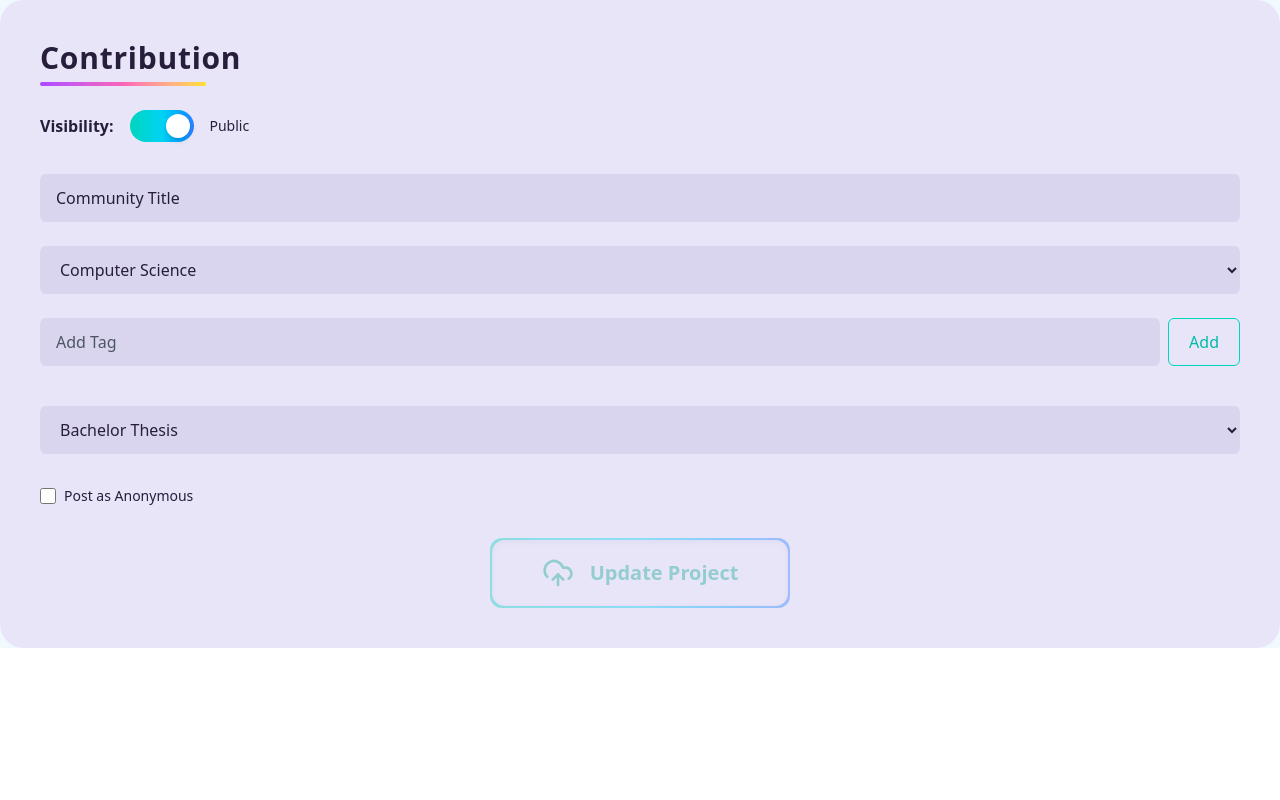
Test: ContributionCard › add and remove tags
// Warte auf das Tag-Input
Type "newTag" into the field with placeholder "Add Tag" at coordinates (600, 342), box [40,318,1160,366]
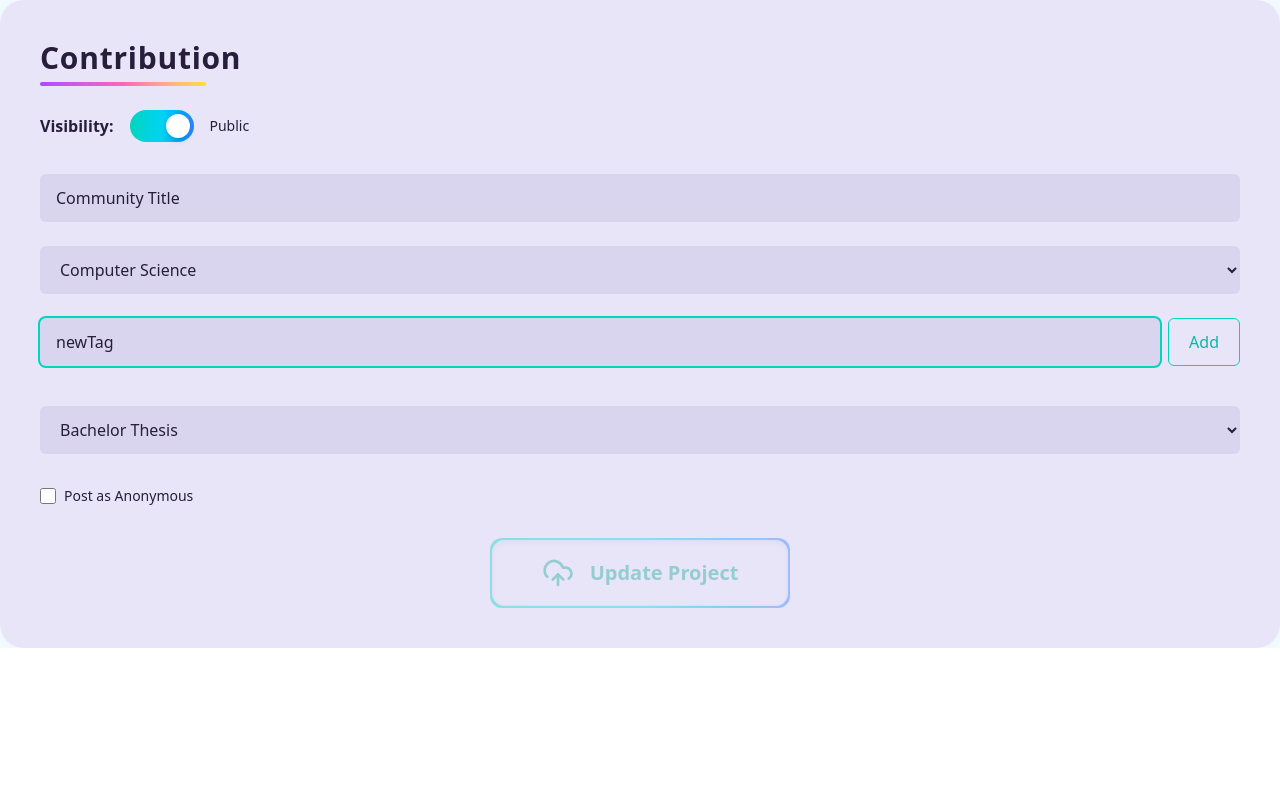
Click the button "Add" at coordinates (1204, 342), box [1168,318,1240,366]
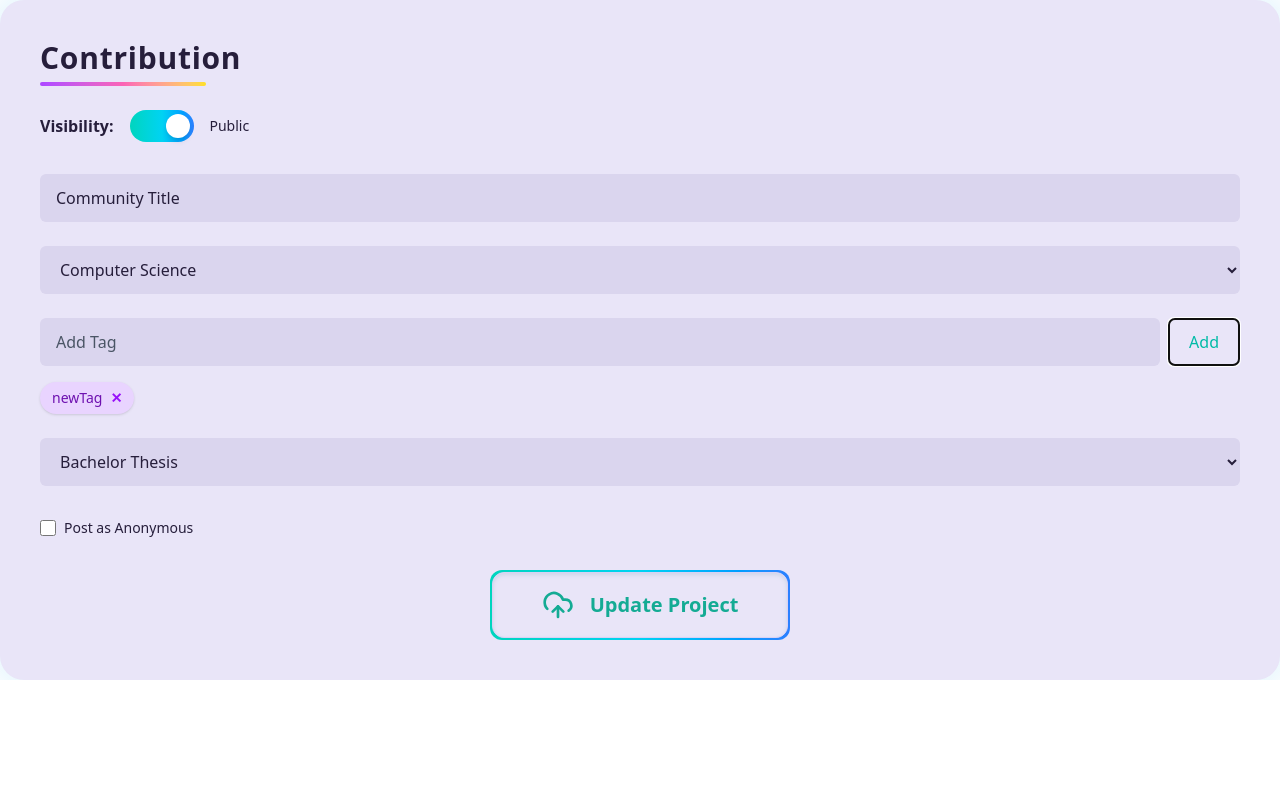
Expected: the text "newTag" is shown, [52,388,102,408]
// Entferne Tag
Click the button "✕" at coordinates (116, 398), box [110,388,122,408]
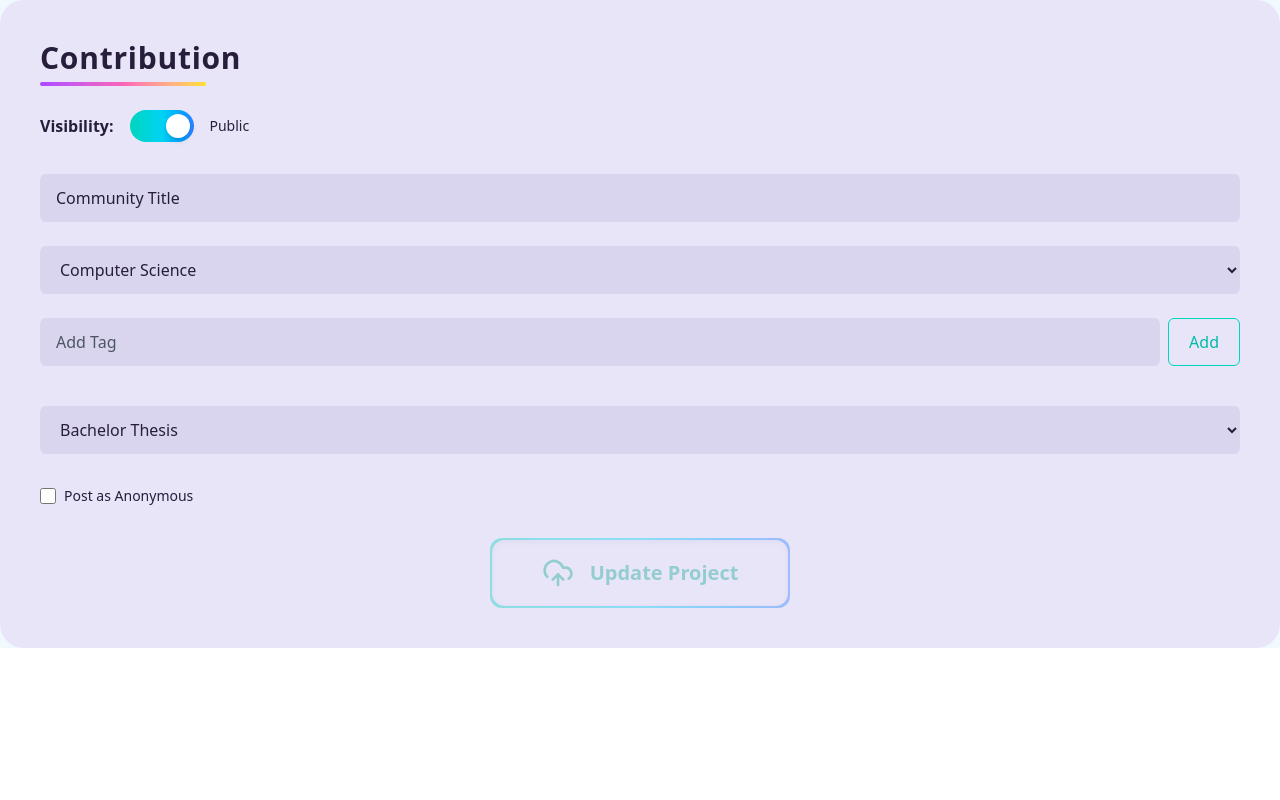
Expected: the text "newTag" is gone
